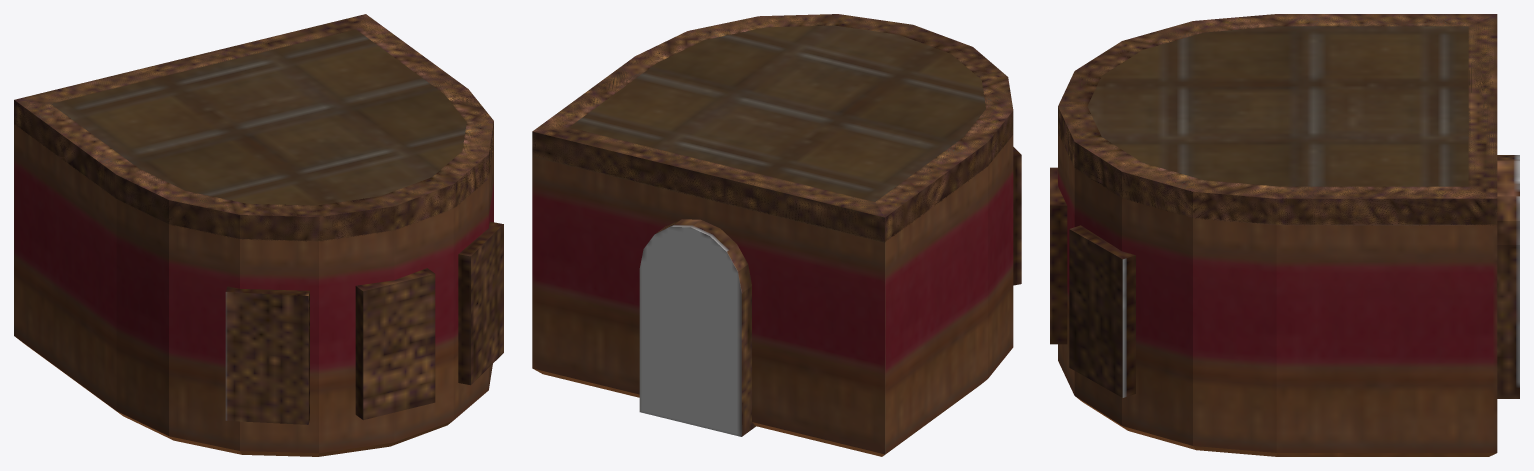
The model's file is Pokoj_3.fbx.
The picture shows the model from 3 angles, left to right: view 1: azimuth 30°, elevation 25°; view 2: azimuth 150°, elevation 25°; view 3: azimuth 270°, elevation 25°; orthographic projection. The views are drawn at different scales.
Visible parts, largest first — view 1: Pokoj_3; view 2: Pokoj_3; view 3: Pokoj_3.
Boxes of the visible parts, x1,y1,x2,y2 form: Pokoj_3: (14,14,503,456); Pokoj_3: (532,14,1021,456); Pokoj_3: (1050,14,1519,456).
Bounding box in the file's own units: 1178 × 779 × 1266.
